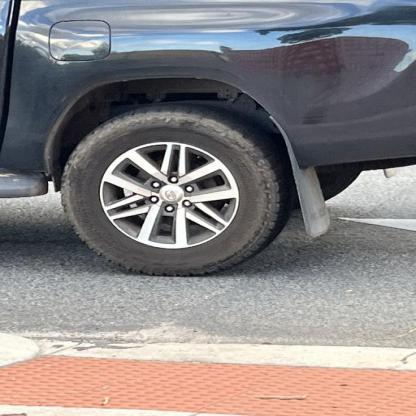Tire: (58, 107, 288, 276)
